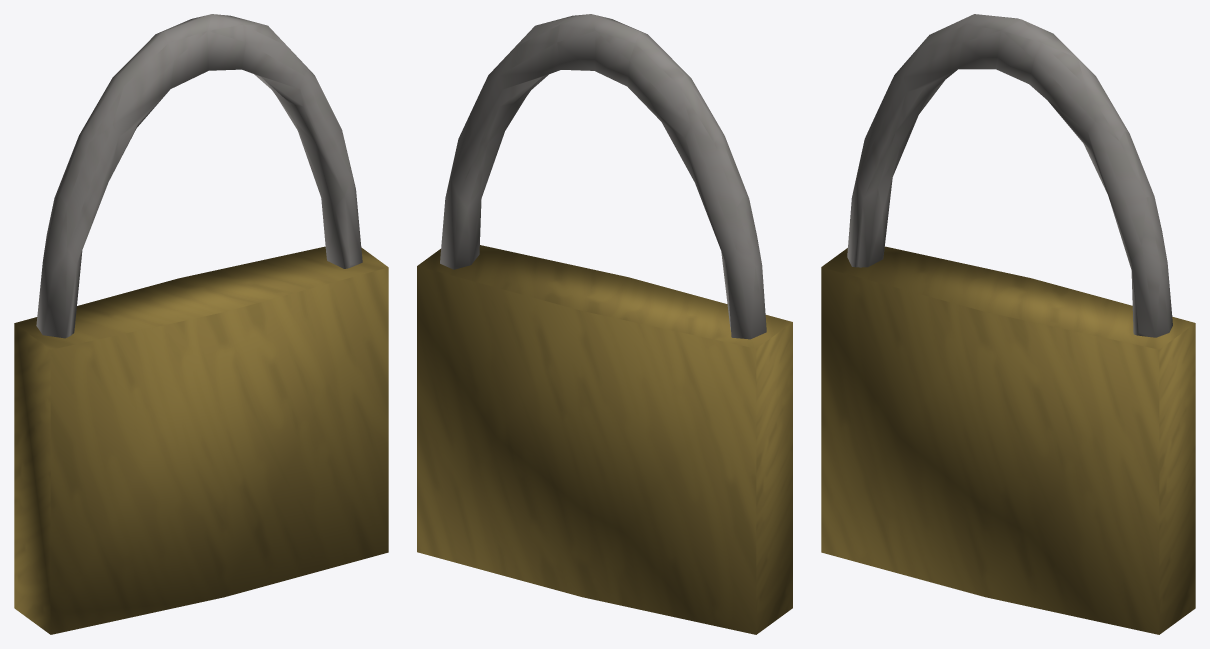
File: DoorLock.fbx
3 views of the same model, side by side, from view 1: azimuth 30°, elevation 25°; view 2: azimuth 150°, elevation 25°; view 3: azimuth 330°, elevation 25° (orthographic).
Visible parts, largest first — view 1: DoorLock; view 2: DoorLock; view 3: DoorLock.
Boxes of the visible parts, <box> form: DoorLock: <box>14,14,388,634</box>; DoorLock: <box>417,14,792,634</box>; DoorLock: <box>821,14,1195,634</box>.
Size of the model in its own units: 73.34 by 117 by 17.29.
2 materials, 2 textured.
